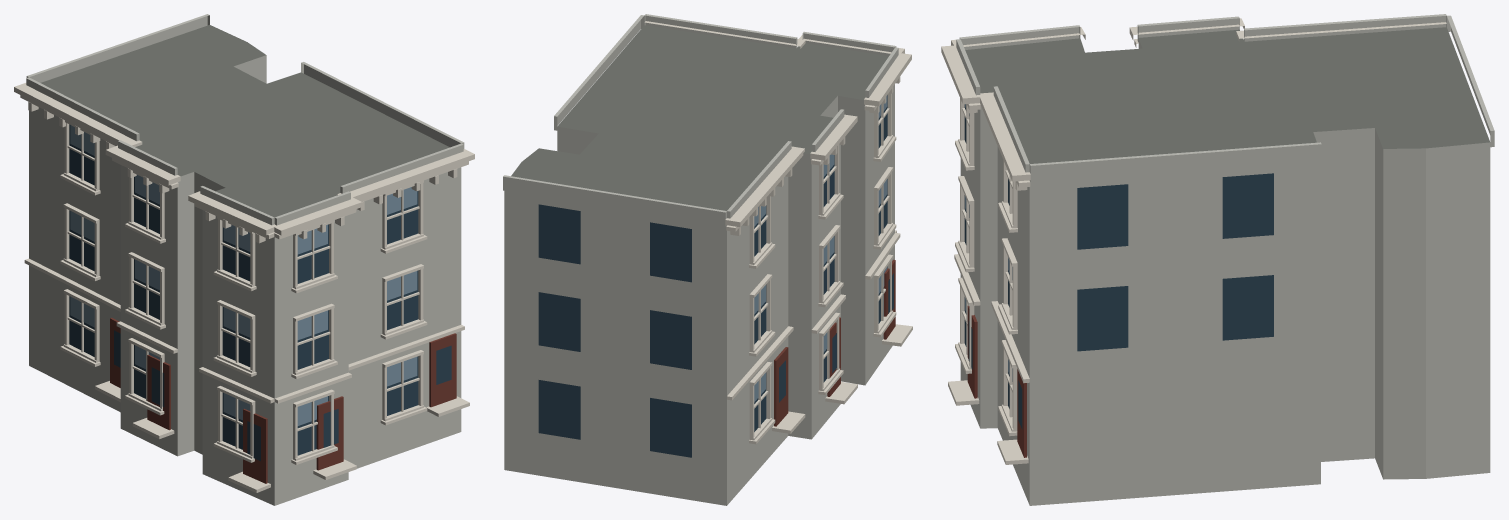
The picture shows the model from 3 angles, left to right: view 1: azimuth 30°, elevation 25°; view 2: azimuth 150°, elevation 25°; view 3: azimuth 270°, elevation 25°; orthographic projection. The views are drawn at different scales.
Visible parts, largest first — view 1: Footprint 0 / surface 2, Footprint 0 / surface 1, Cornices and window frames, Inset glazing, Facade bay volumes, Sky reflection panels, Storefronts and doors; view 2: Footprint 0 / surface 2, Footprint 0 / surface 1, Cornices and window frames, Inset glazing, Facade bay volumes, Storefronts and doors, Sky reflection panels; view 3: Footprint 0 / surface 2, Footprint 0 / surface 1, Inset glazing, Cornices and window frames, Facade bay volumes, Storefronts and doors.
Boxes of the visible parts, x1,y1,x2,y2 form: Footprint 0 / surface 2: (29, 55, 461, 505); Footprint 0 / surface 1: (41, 25, 449, 217); Cornices and window frames: (14, 83, 474, 492); Inset glazing: (69, 124, 451, 461); Facade bay volumes: (26, 14, 464, 225); Sky reflection panels: (70, 125, 417, 425); Storefronts and doors: (110, 317, 456, 483); Footprint 0 / surface 2: (504, 84, 894, 505); Footprint 0 / surface 1: (511, 25, 888, 210); Cornices and window frames: (644, 21, 912, 444); Inset glazing: (538, 95, 893, 457); Facade bay volumes: (503, 14, 898, 226); Storefronts and doors: (774, 259, 895, 426); Sky reflection panels: (754, 95, 887, 401); Footprint 0 / surface 2: (960, 39, 1490, 505); Footprint 0 / surface 1: (965, 27, 1489, 163); Inset glazing: (964, 104, 1273, 429); Cornices and window frames: (941, 18, 1446, 464); Facade bay volumes: (956, 14, 1494, 181); Storefronts and doors: (967, 305, 1026, 457).
Size of the model in its own units: 10.56 by 10.51 by 15.42.
